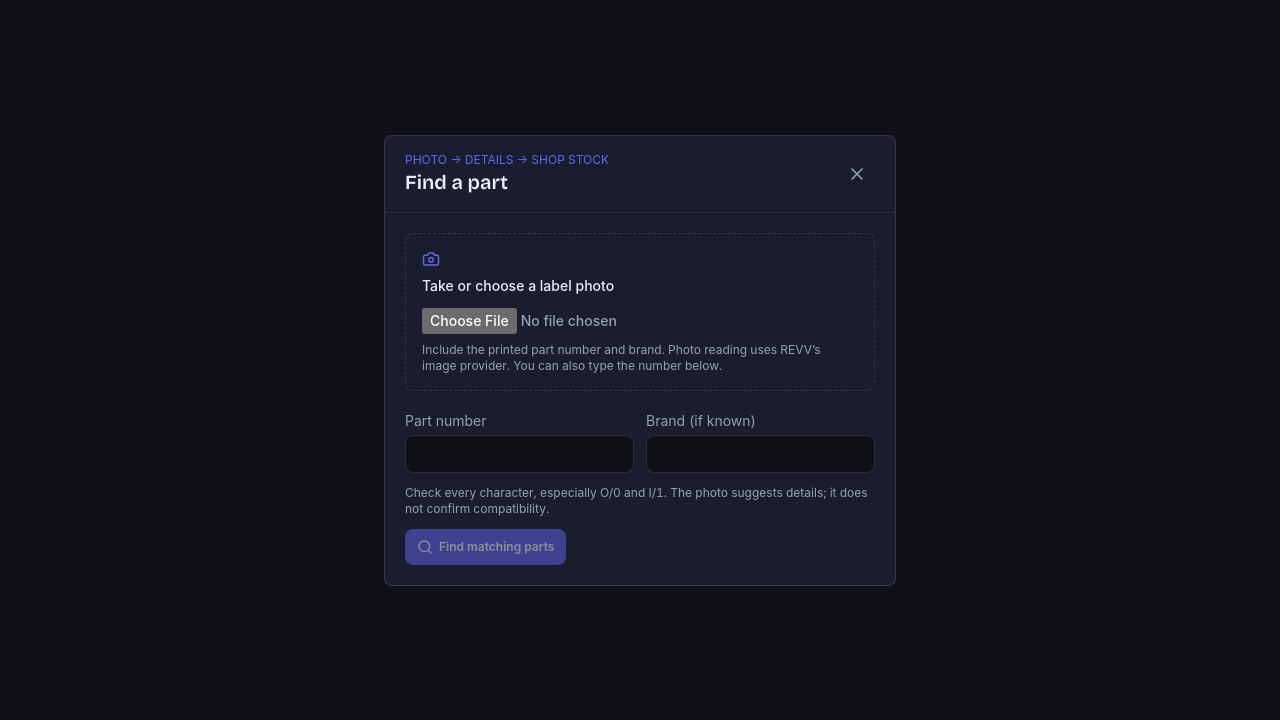
Test case: different known brand can be added with a collision warning
Type "AB123" into the field labelled "Part number". click: coordinates (520, 454)
box: [405,434,634,472]
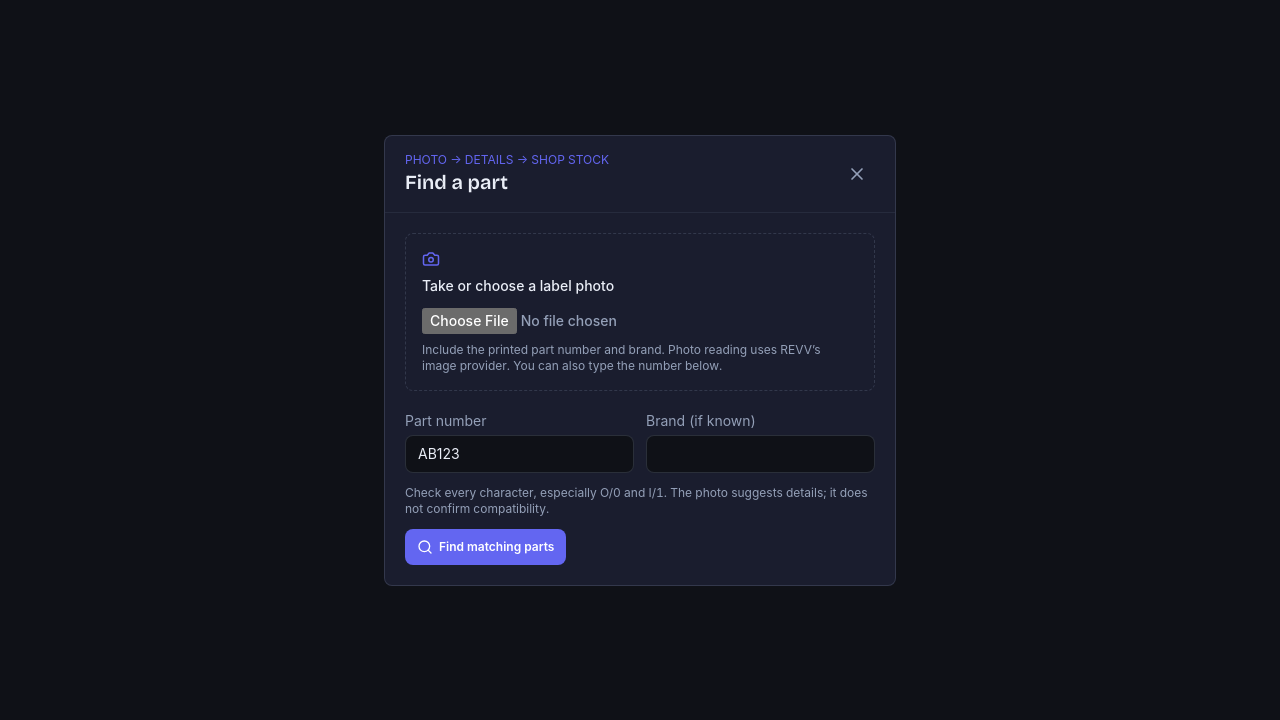
Type "Example" into the field labelled "Brand (if known)". click: coordinates (760, 454)
box: [646,434,875,472]
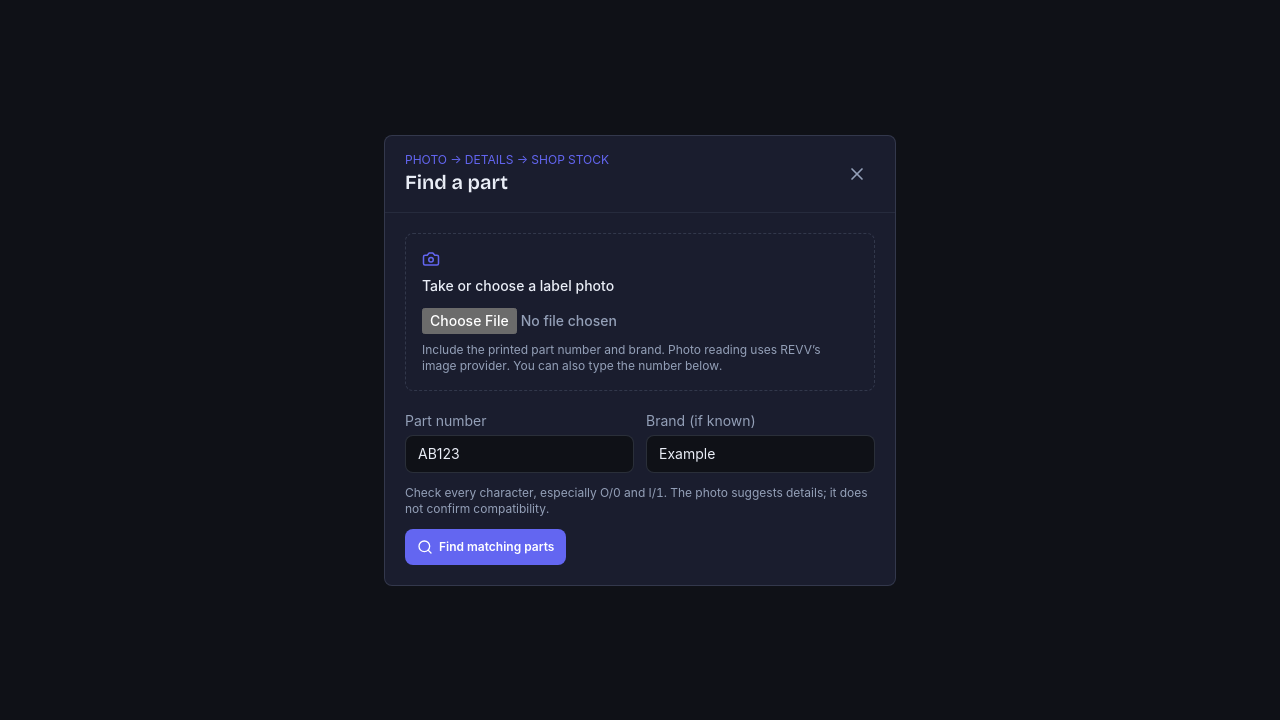
Click the button "Find matching parts". click: coordinates (486, 546)
box: [405,528,566,564]
(page scrolled)
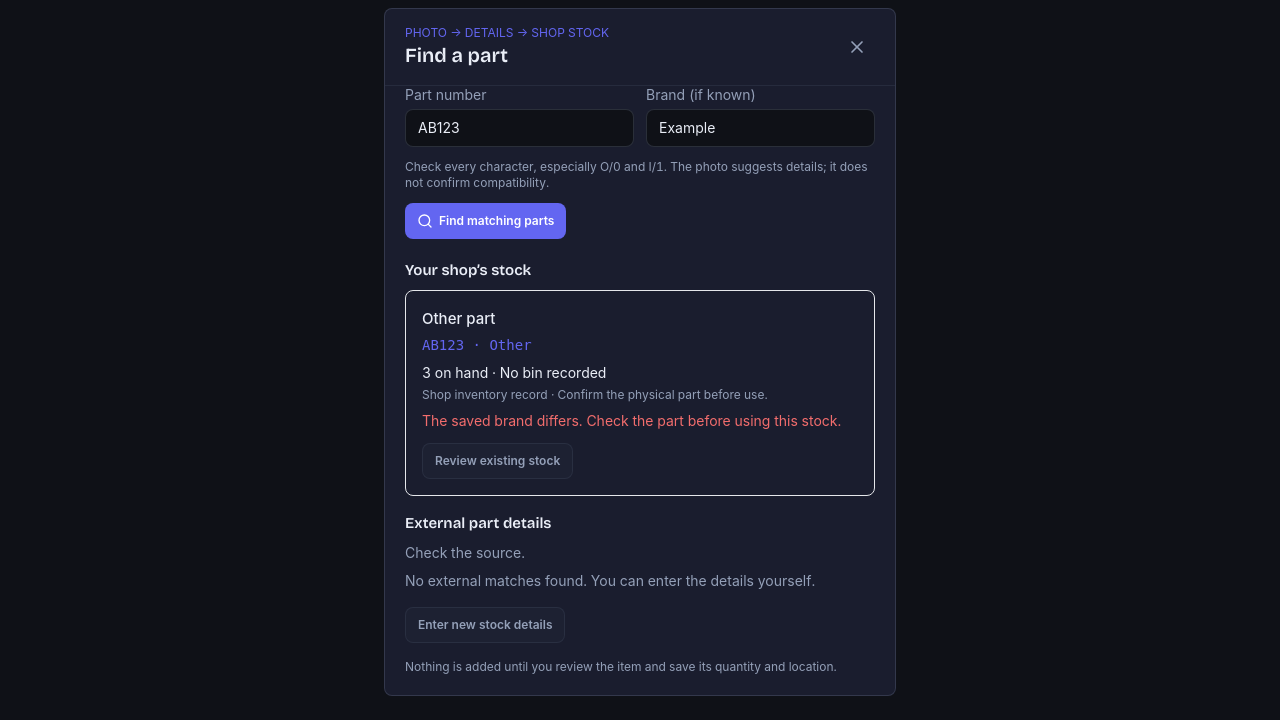
Check: the text "Check the source." is shown, box [405,544,525,561]
Check: the text "The saved brand differs. Check the part before using this stock." is shown, box [422,410,858,430]
Check: the button "Enter new stock details" is shown, box [405,607,566,643]
